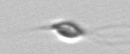plankton: (29, 16, 113, 44)
